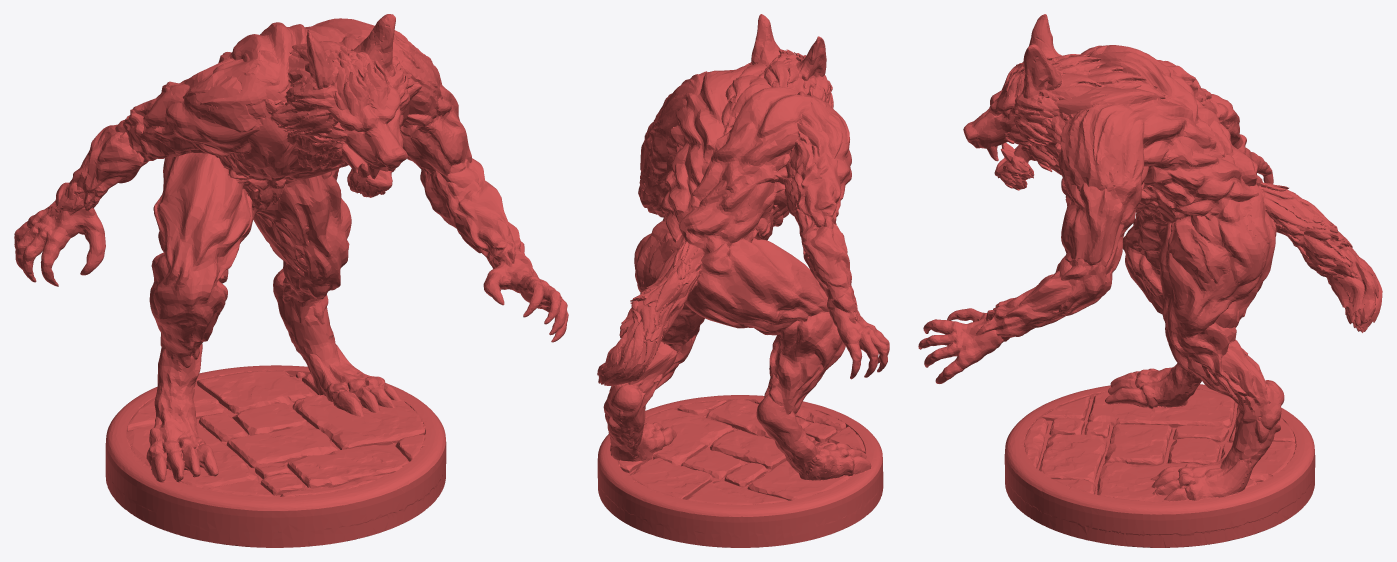
File: werewolf.glb
3 renders of one model, left to right at view 1: azimuth 30°, elevation 25°; view 2: azimuth 150°, elevation 25°; view 3: azimuth 270°, elevation 25°, orthographic. The views are drawn at different scales.
Parts seen in each view (by area): view 1: werewolf; view 2: werewolf; view 3: werewolf.
Boxes of the visible parts, x1,y1,x2,y2 form: werewolf: (14, 14, 568, 547); werewolf: (597, 14, 889, 547); werewolf: (918, 14, 1382, 547).
Bounding box in the file's own units: 39.78 × 48.99 × 45.05.
